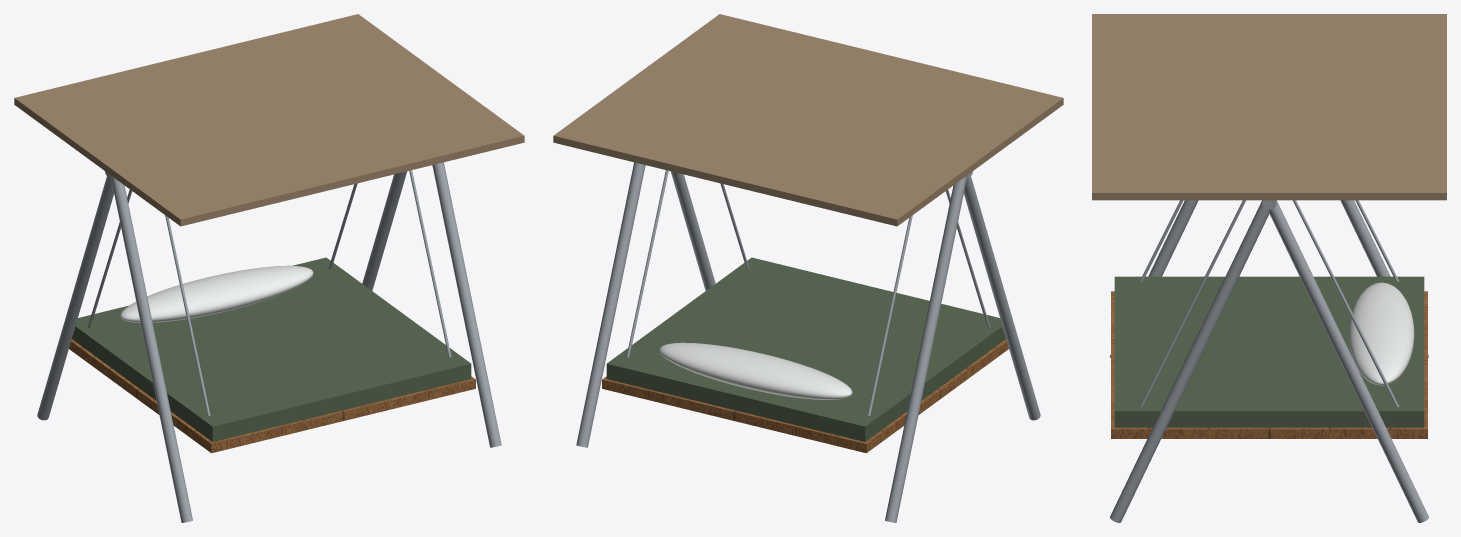
File: Hintaagy_fekvo.obj
3 renders of one model, left to right at view 1: azimuth 30°, elevation 25°; view 2: azimuth 150°, elevation 25°; view 3: azimuth 270°, elevation 25°, orthographic. The views are drawn at different scales.
Size of the model in its own units: 2.34 by 2.06 by 1.96.
5 materials, 1 textured.
